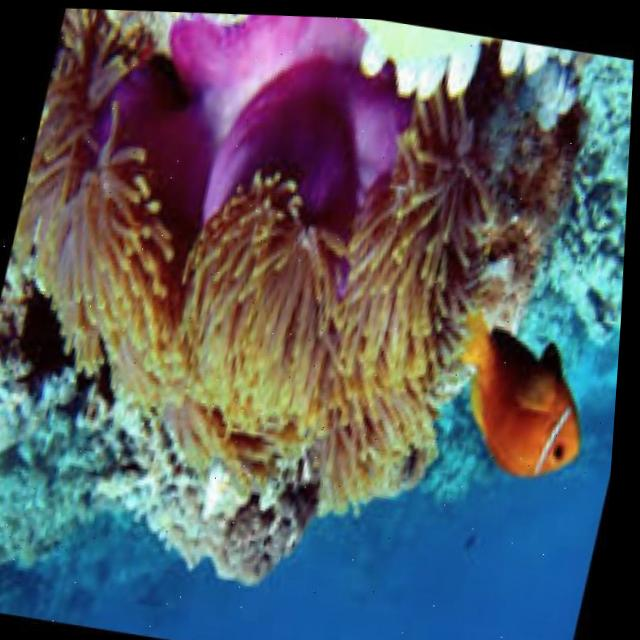Healthy Coral: (17, 70, 511, 505)
